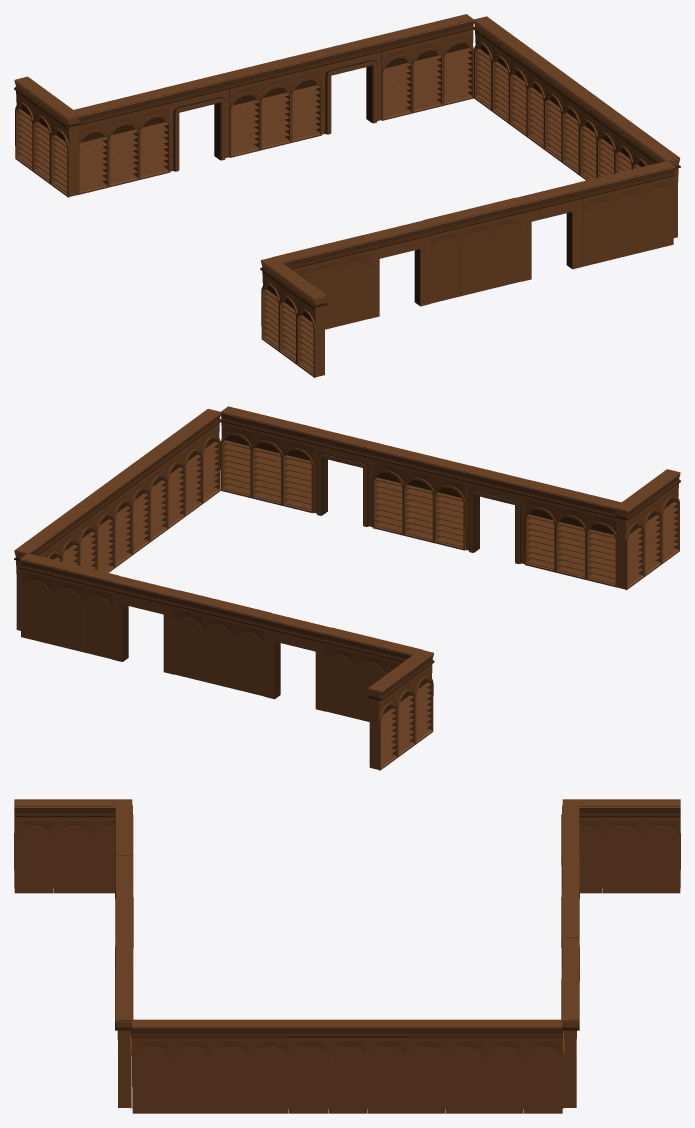
File: kasten boven.fbx
The picture shows the model from 3 angles, top to bottom: view 1: azimuth 30°, elevation 25°; view 2: azimuth 150°, elevation 25°; view 3: azimuth 270°, elevation 25°; orthographic projection. The views are drawn at different scales.
Parts seen in each view (by area): view 1: boven1; view 2: boven1; view 3: boven1.
Boxes of the visible parts, x1,y1,x2,y2 form: boven1: (14, 14, 680, 377); boven1: (14, 406, 680, 770); boven1: (14, 799, 680, 1113).
Size of the model in its own units: 81.11 by 14.63 by 100.
